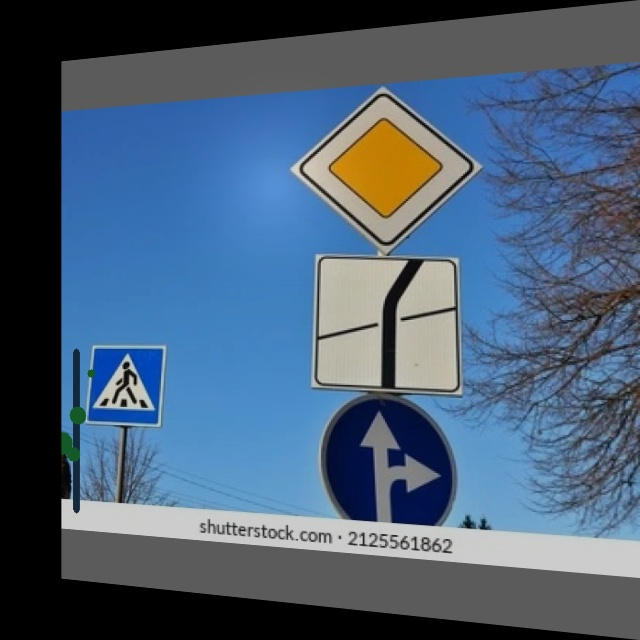Compulsory_Ahead_or_Turn_Right: (325, 397, 457, 526)
